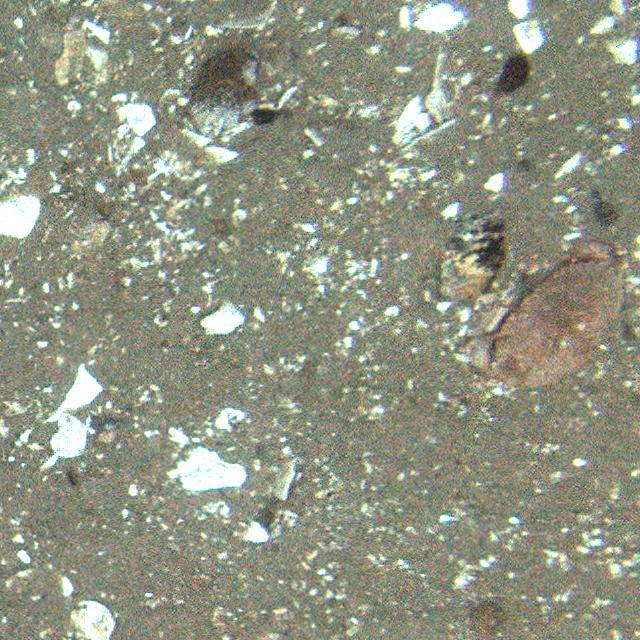crab: (463, 238, 623, 394)
